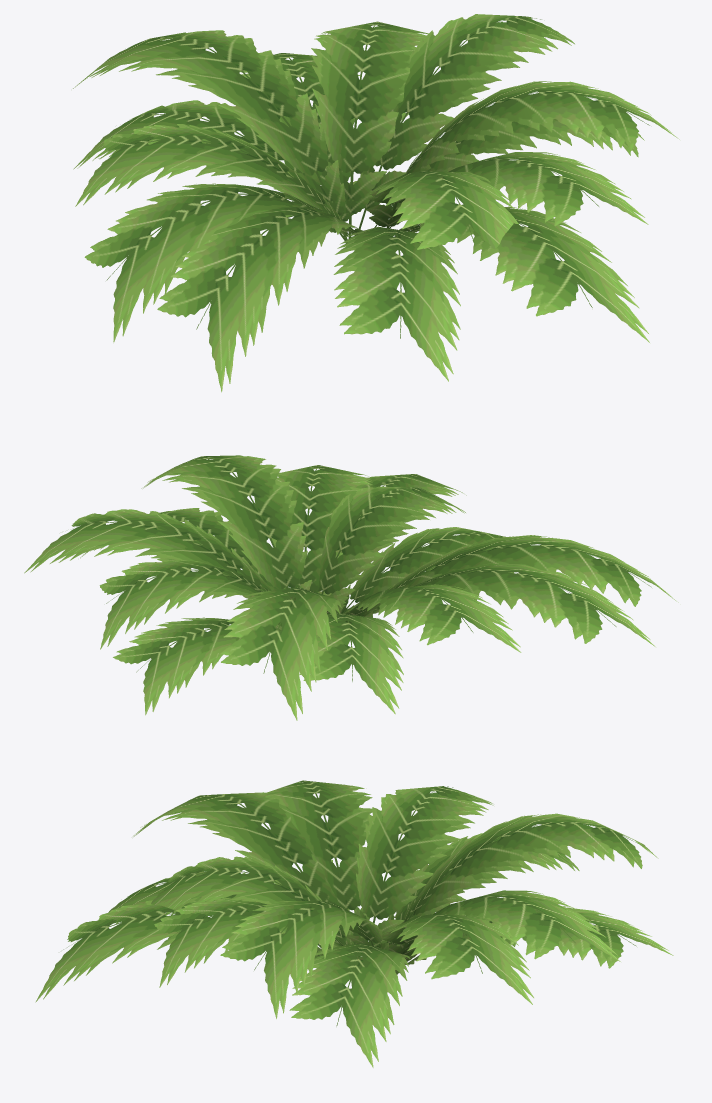
Rendered from fern_b.glb.
The picture shows the model from 3 angles, top to bottom: view 1: azimuth 30°, elevation 25°; view 2: azimuth 150°, elevation 25°; view 3: azimuth 270°, elevation 25°; orthographic projection. The views are drawn at different scales.
Parts seen in each view (by area): view 1: leaves; view 2: leaves; view 3: leaves.
Part boxes in pixels (left/top/right/bottom): leaves: left=73, top=14, right=679, bottom=392; leaves: left=24, top=455, right=678, bottom=720; leaves: left=35, top=780, right=673, bottom=1067.
Size of the model in its own units: 2.28 by 0.5856 by 2.33.
Materials: 1 (1 with a texture image).
